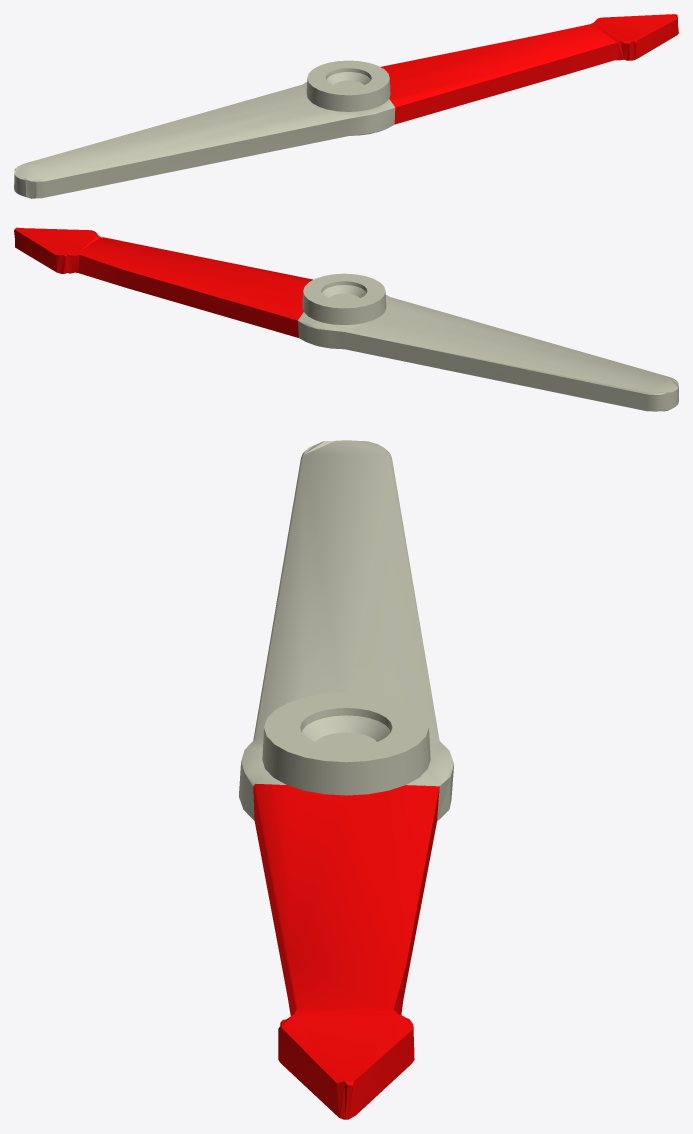
The model's file is comp2.FBX.
3 renders of one model, top to bottom at view 1: azimuth 30°, elevation 25°; view 2: azimuth 150°, elevation 25°; view 3: azimuth 270°, elevation 25°, orthographic. The views are drawn at different scales.
Visible parts, largest first — view 1: 对象001, 对象002; view 2: 对象001, 对象002; view 3: 对象001, 对象002.
Part boxes in pixels (left/top/right/bottom): 对象001: left=14, top=60, right=395, bottom=198; 对象002: left=381, top=14, right=678, bottom=124; 对象001: left=297, top=273, right=678, bottom=411; 对象002: left=14, top=227, right=312, bottom=337; 对象001: left=239, top=440, right=453, bottom=821; 对象002: left=253, top=783, right=439, bottom=1119.
Bounding box in the file's own units: 3.54 × 0.1853 × 0.499.
